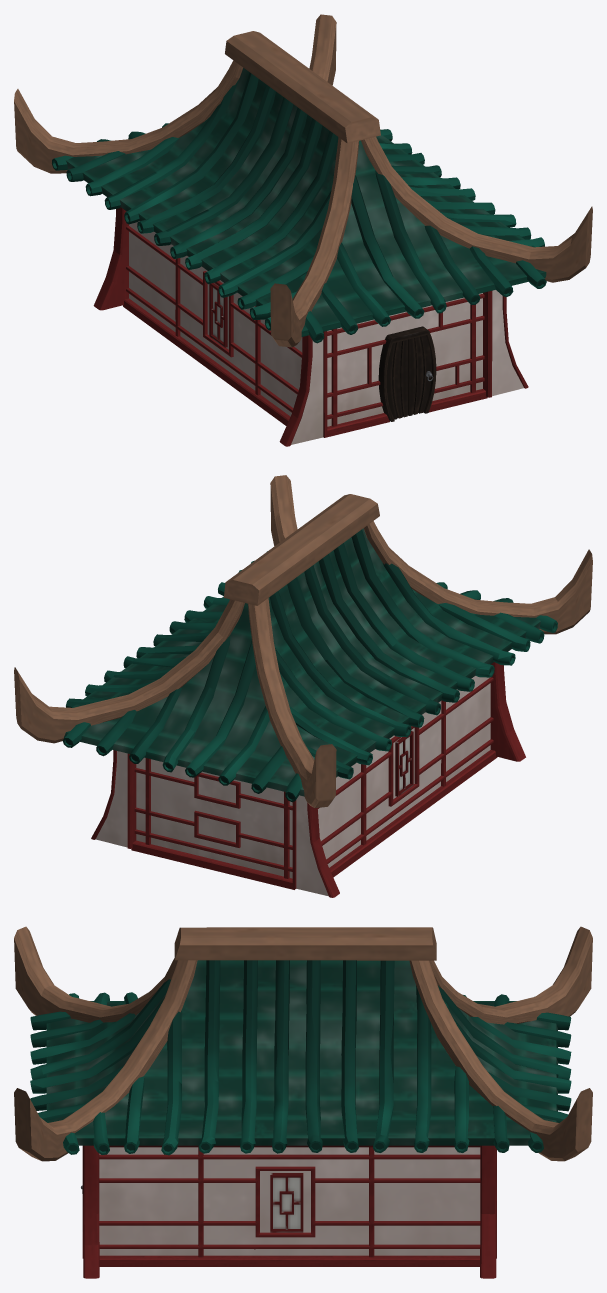
File: Building07.fbx
3 renders of one model, top to bottom at view 1: azimuth 30°, elevation 25°; view 2: azimuth 150°, elevation 25°; view 3: azimuth 270°, elevation 25°, orthographic. The views are drawn at different scales.
Visible parts, largest first — view 1: Building07_mesh_mesh; view 2: Building07_mesh_mesh; view 3: Building07_mesh_mesh.
Part boxes in pixels (<box>): Building07_mesh_mesh: <box>14,14,592,446</box>; Building07_mesh_mesh: <box>14,475,592,897</box>; Building07_mesh_mesh: <box>14,926,592,1278</box>.
Size of the model in its own units: 137 by 109 by 200.
1 material, 1 textured.
